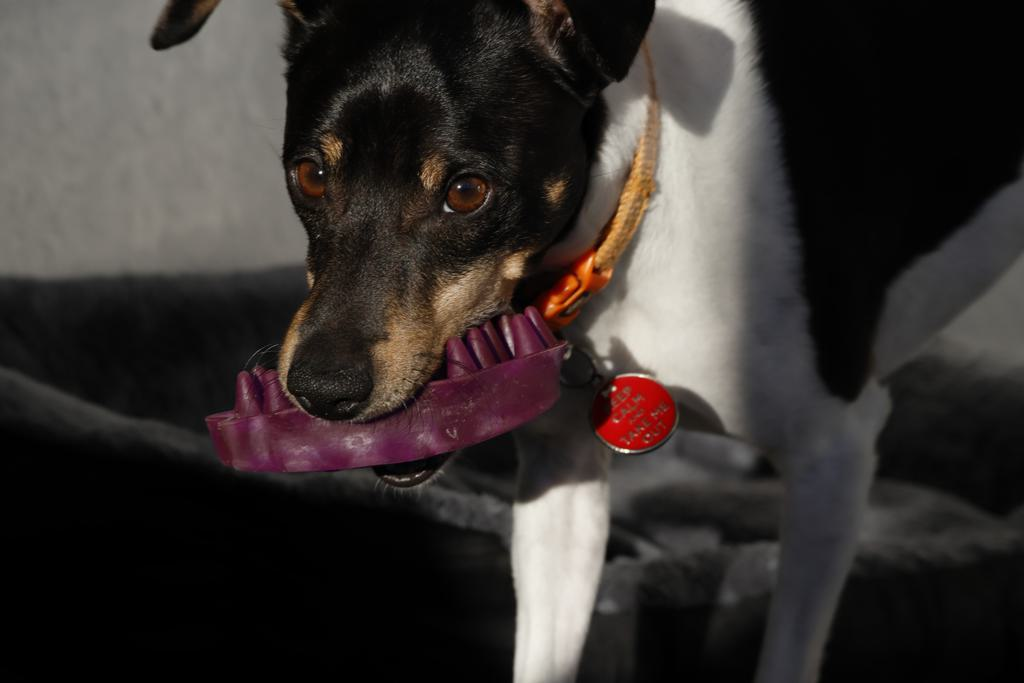Dog: (139, 0, 1024, 683)
